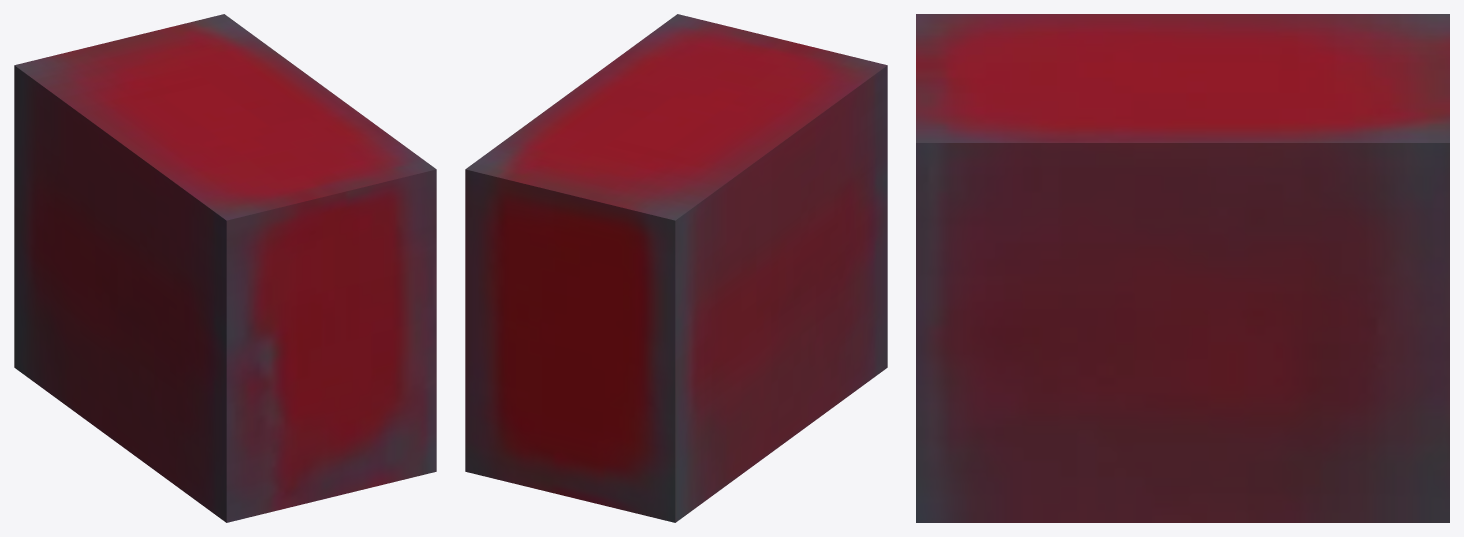
File: link2__tongue.glb
3 views of the same model, side by side, from view 1: azimuth 30°, elevation 25°; view 2: azimuth 150°, elevation 25°; view 3: azimuth 270°, elevation 25° (orthographic). The views are drawn at different scales.
Visible parts, largest first — view 1: world; view 2: world; view 3: world.
Part boxes in pixels (x1,y1,x2,y2): world: (14, 14, 436, 522); world: (465, 14, 887, 522); world: (916, 14, 1449, 522).
Bounding box in the file's own units: 0.008 × 0.011 × 0.014.
1 material, 1 textured.
